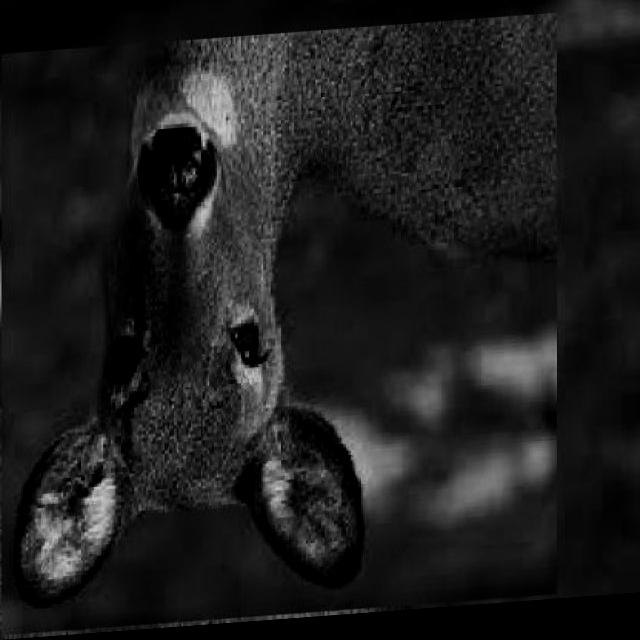Deer: (1, 13, 558, 637)
